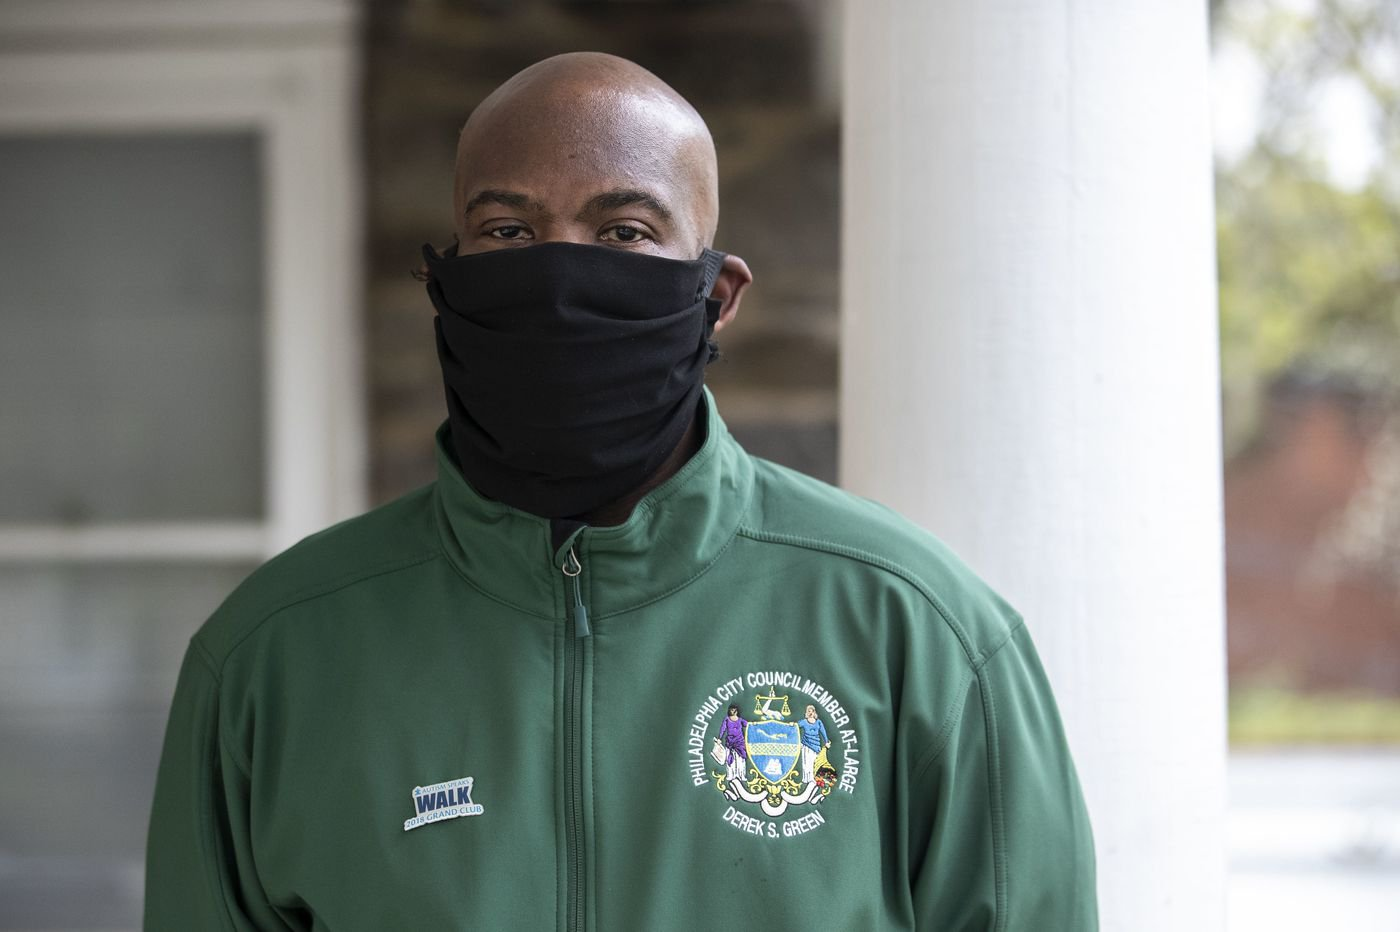mask: (391, 32, 794, 527)
